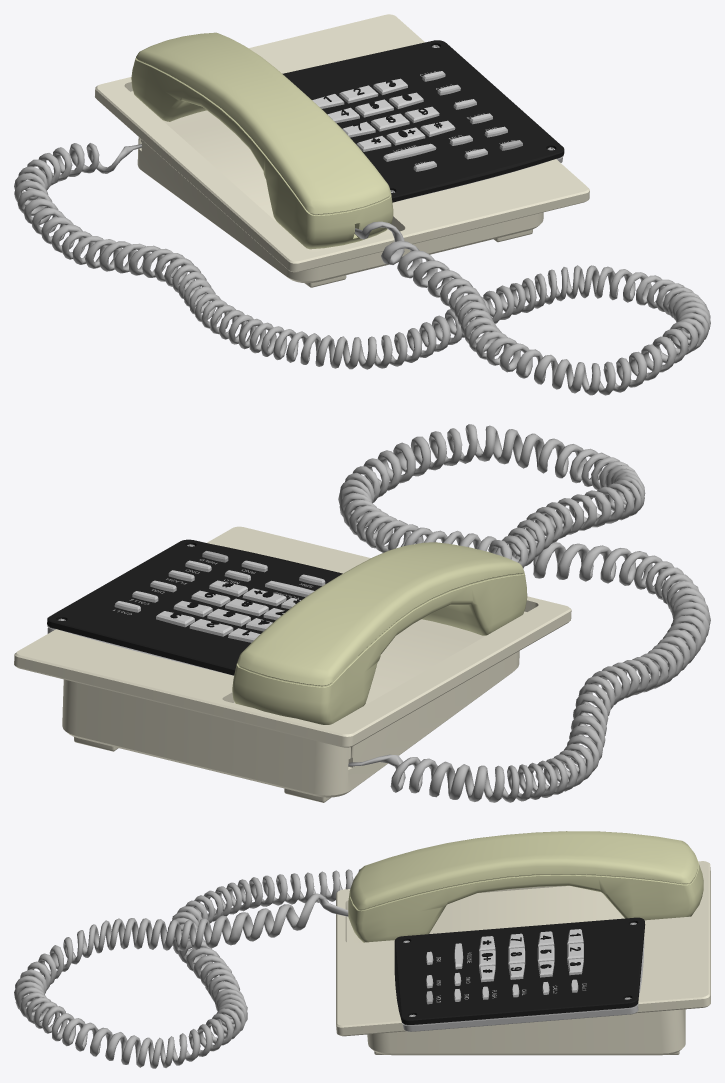
The model's file is device.fbx.
3 renders of one model, top to bottom at view 1: azimuth 30°, elevation 25°; view 2: azimuth 150°, elevation 25°; view 3: azimuth 270°, elevation 25°, orthographic. The views are drawn at different scales.
Visible parts, largest first — view 1: 078_12, 078_1, 078_2, 078_4, 078_3; view 2: 078_1, 078_12, 078_2, 078_4, 078_3; view 3: 078_1, 078_2, 078_12, 078_4, 078_3, 078_7, 078_10.
Boxes of the visible parts, <box> form: 078_12: <box>14,143,710,395</box>; 078_1: <box>95,14,589,287</box>; 078_2: <box>131,32,393,249</box>; 078_4: <box>282,40,564,202</box>; 078_3: <box>312,71,507,171</box>; 078_1: <box>14,526,571,802</box>; 078_12: <box>338,424,710,802</box>; 078_2: <box>232,542,527,724</box>; 078_4: <box>47,539,342,675</box>; 078_3: <box>114,560,325,642</box>; 078_1: <box>336,861,710,1055</box>; 078_2: <box>348,831,703,942</box>; 078_12: <box>14,869,360,1068</box>; 078_4: <box>394,917,645,1024</box>; 078_3: <box>426,929,583,1001</box>; 078_7: <box>403,1004,638,1031</box>; 078_10: <box>481,933,580,972</box>.
Size of the model in its own units: 27.87 by 8.13 by 41.12.
